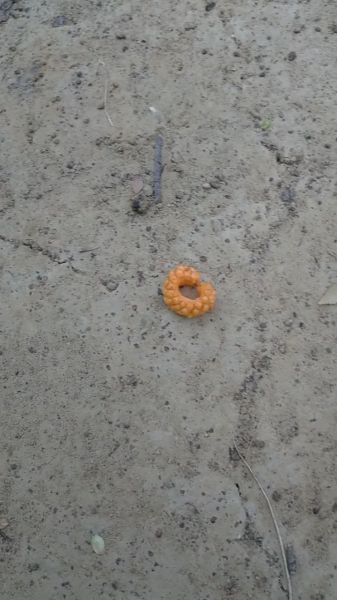eggs: (160, 258, 221, 331)
